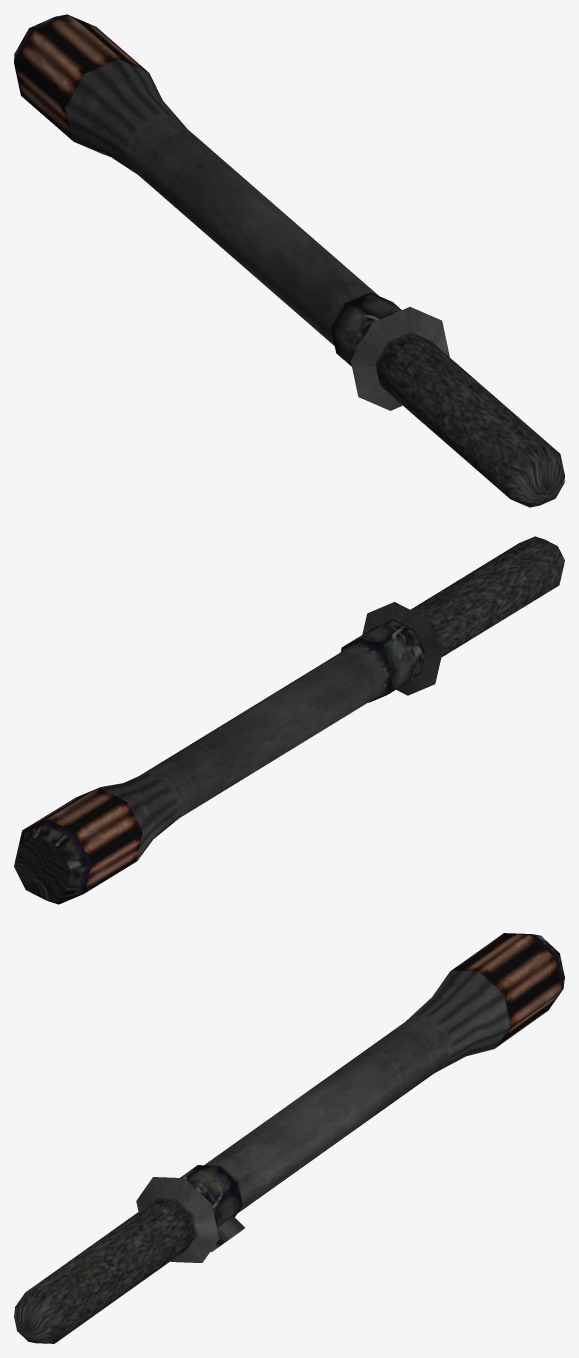
Rendered from hl2-stun-baton-half-life-2.glb.
3 renders of one model, top to bottom at view 1: azimuth 30°, elevation 25°; view 2: azimuth 150°, elevation 25°; view 3: azimuth 330°, elevation 25°, orthographic. The views are drawn at different scales.
Size of the model in its own units: 2.87 by 2.65 by 22.33.
Materials: 1 (1 with a texture image).
